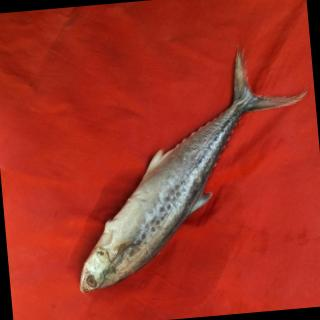Ikan: (50, 34, 320, 305)
